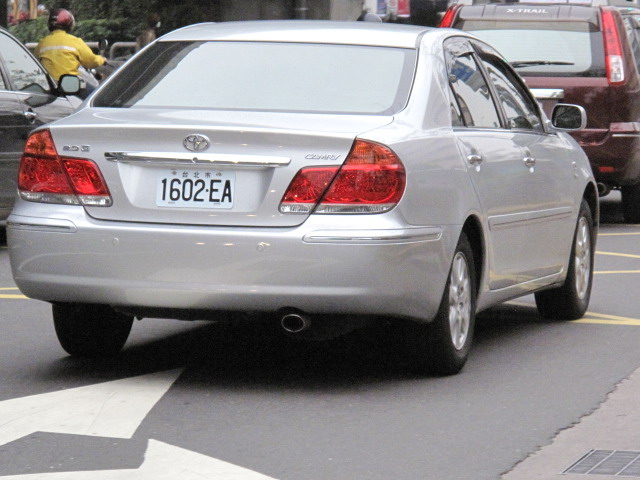plate: (156, 168, 237, 211)
